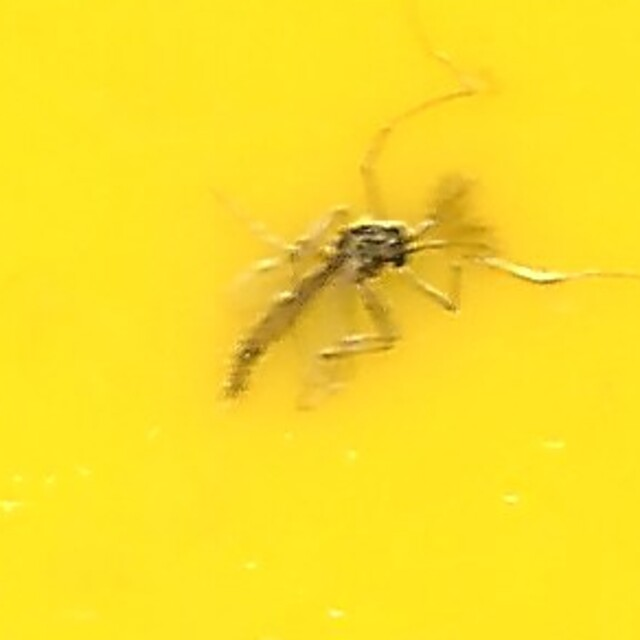Nematocera: (219, 218, 421, 422)
